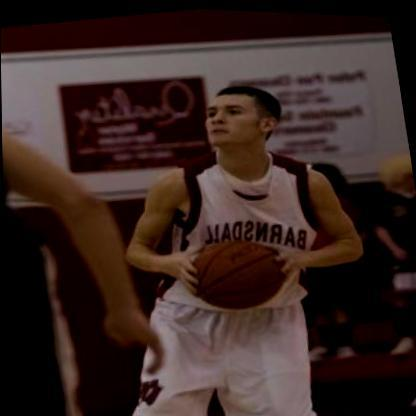basketball: (170, 222, 296, 323)
